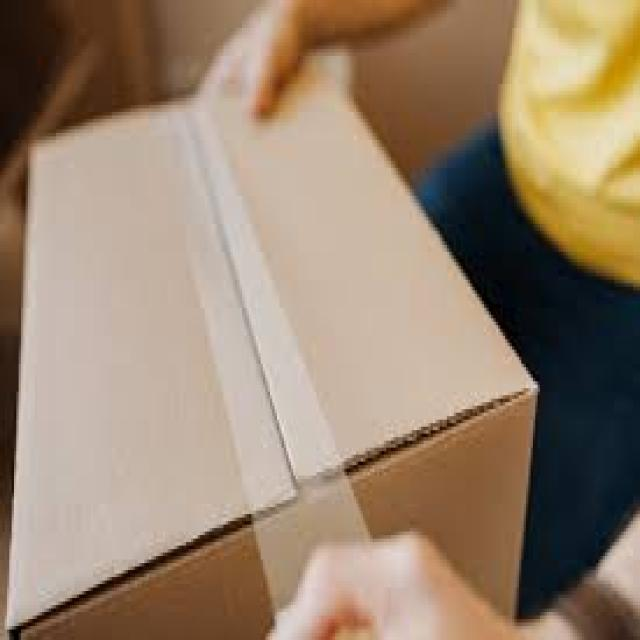Kardus kondisi bagus: (8, 54, 542, 640)
